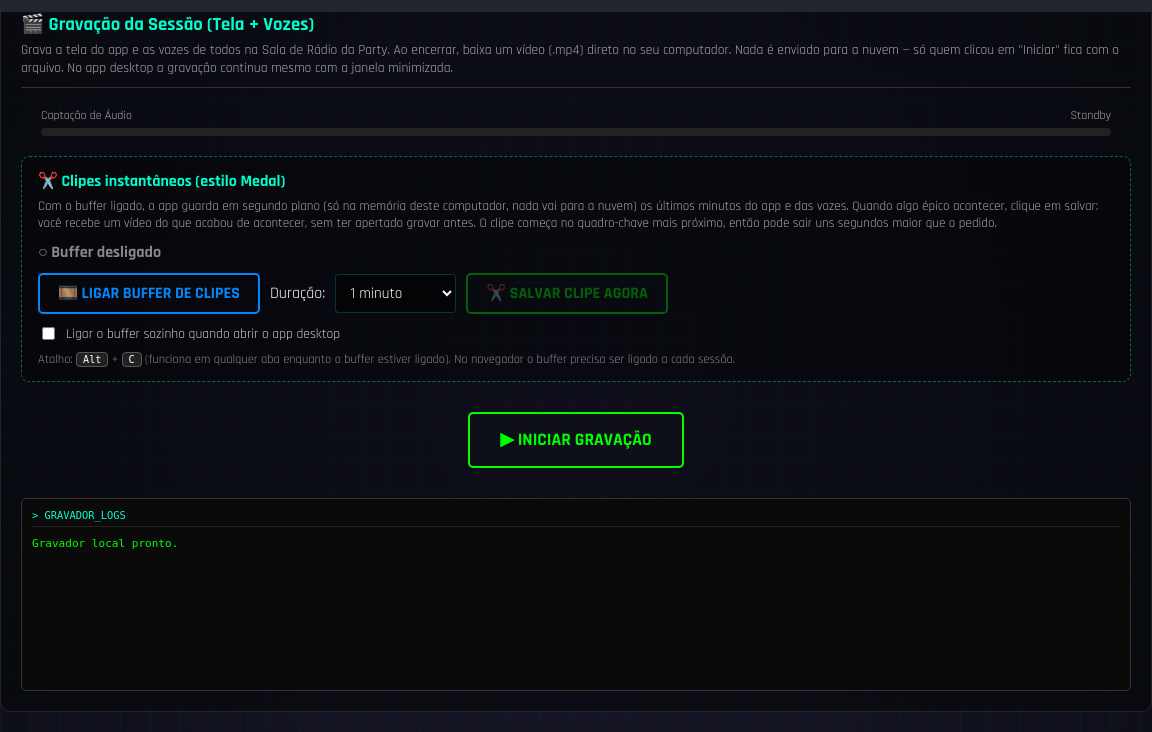
it: GravadorPanel: modo clipe › botao SALVAR CLIPE AGORA aciona o clipe
(page scrolled)
Click the button "🎞️ LIGAR BUFFER DE CLIPES". click: [149, 294]
box: [38,273,260,314]
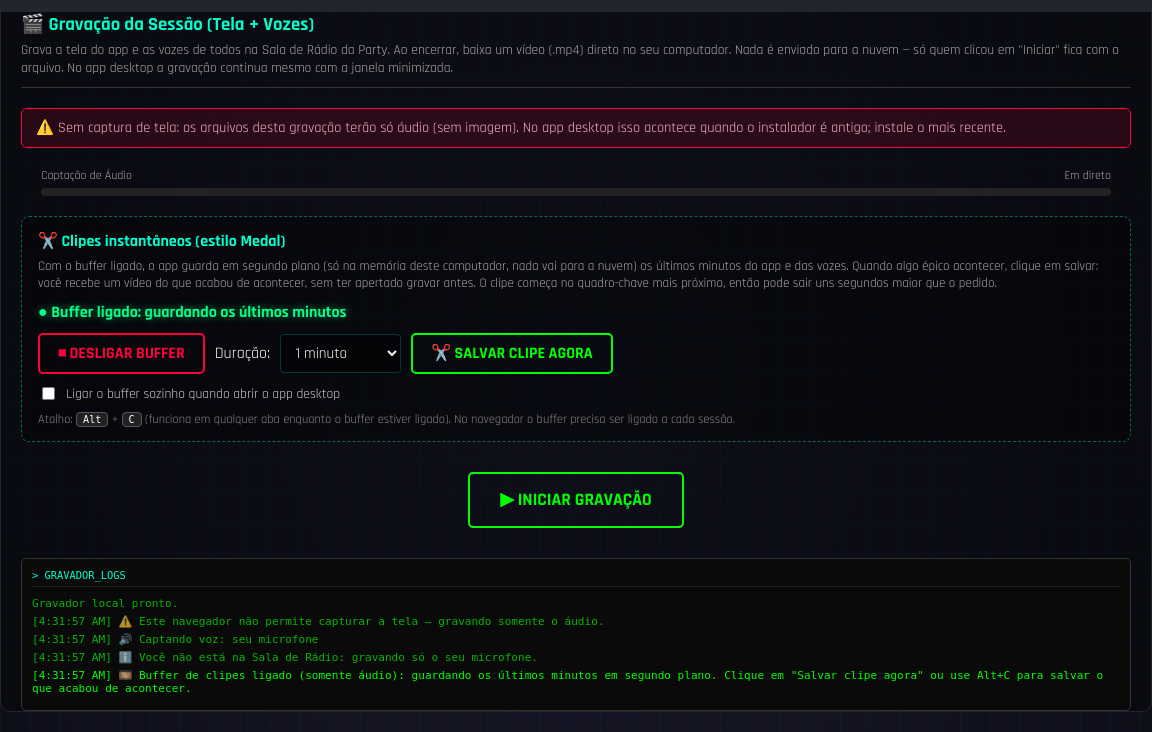
Click the button "✂️ SALVAR CLIPE AGORA". click: [512, 354]
box: [411,333,613,374]
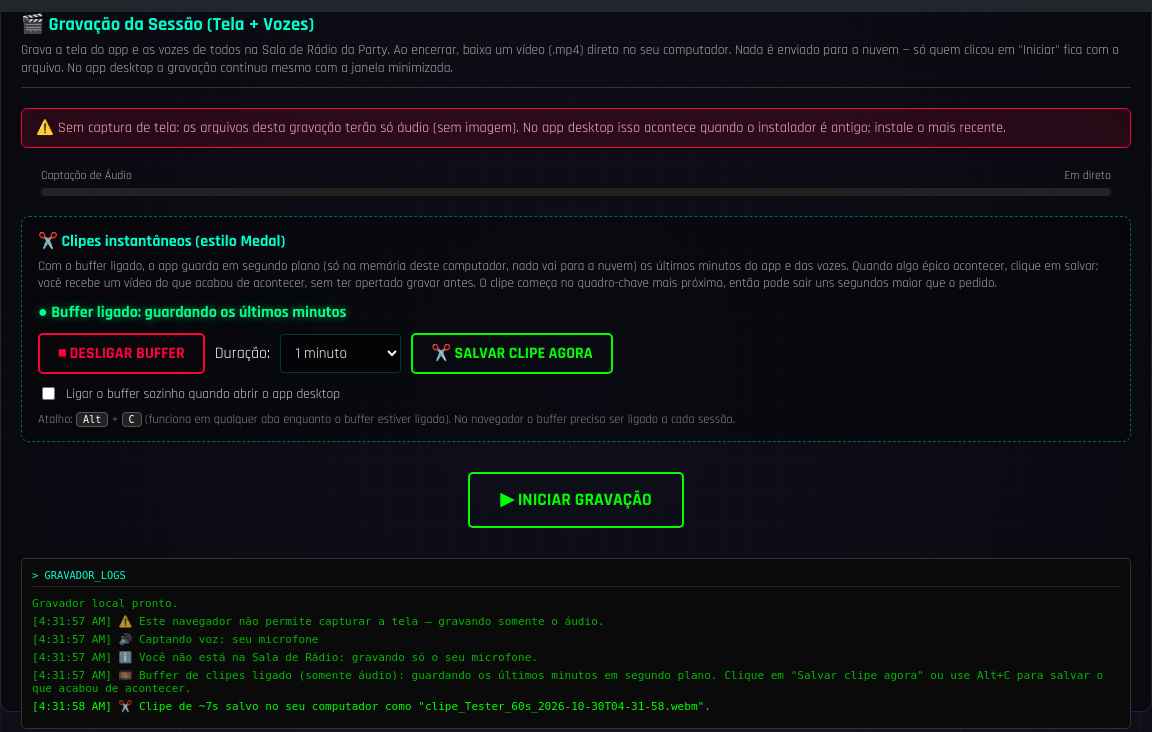
Expected: the text "Clipe de ~7s" is shown, [32,700,711,713]
